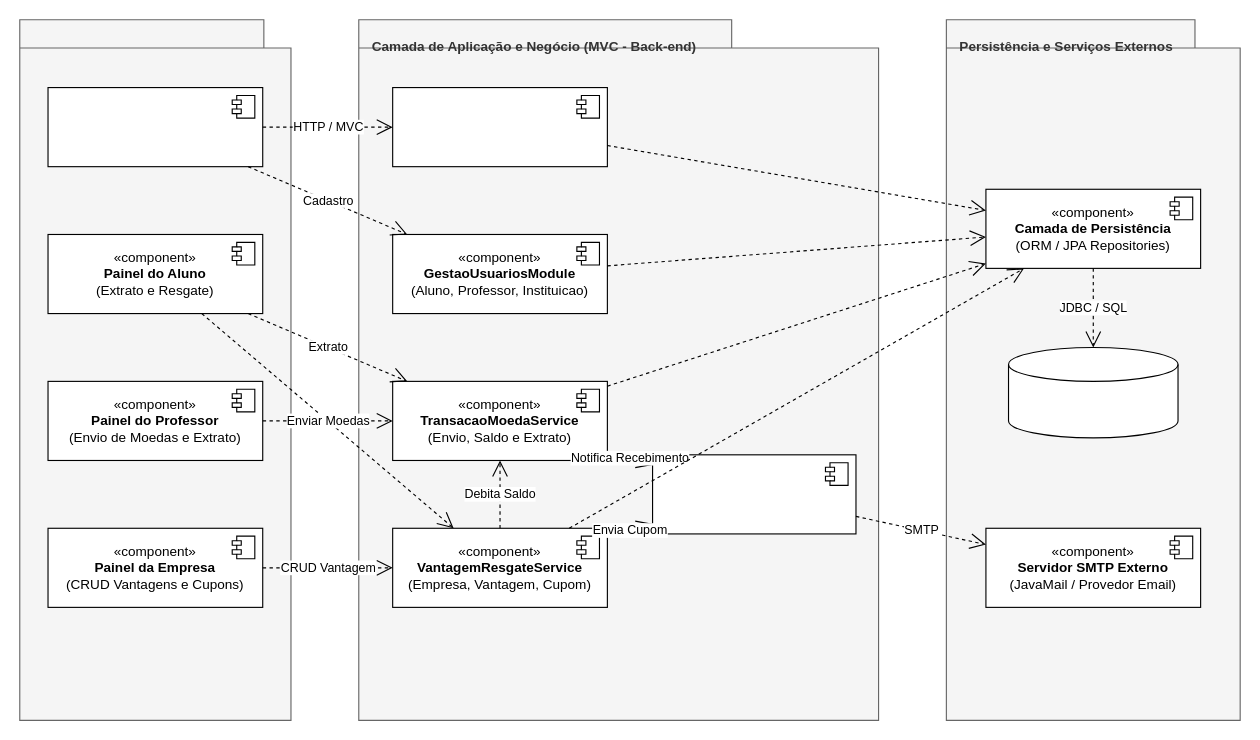
Some shapes in this 1260 by 740 pixel diagram are drawn without their labels. The box of each missing label's shape, as (x1, y1, x2, y2) in pixels:
Banco de Dados Relacional (PostgreSQL / H2): (1007, 346, 1178, 438)
Camada de Apresentação (View): (19, 19, 291, 720)
«component» AutenticacaoService (Login Usuario / Sessão): (392, 86, 607, 167)
«component» NotificacaoEmailService (Envio de Alertas e Cupons): (651, 454, 856, 534)
«component» Portal de Autenticação (Login / Cadastro): (47, 86, 263, 167)
